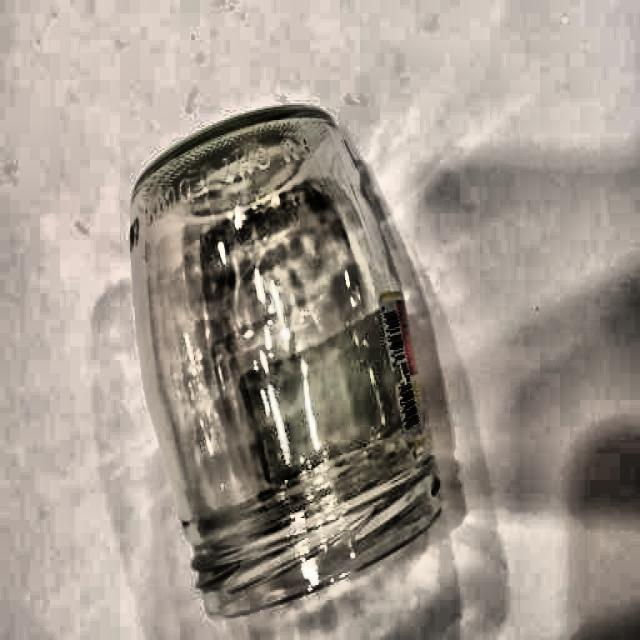glass: (128, 102, 444, 617)
